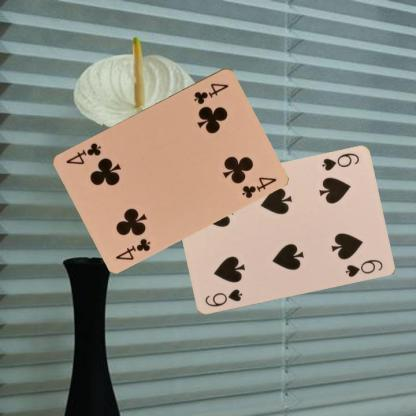4c: (113, 235, 152, 261), (191, 80, 230, 105)
6s: (202, 286, 244, 308), (319, 151, 360, 172)
